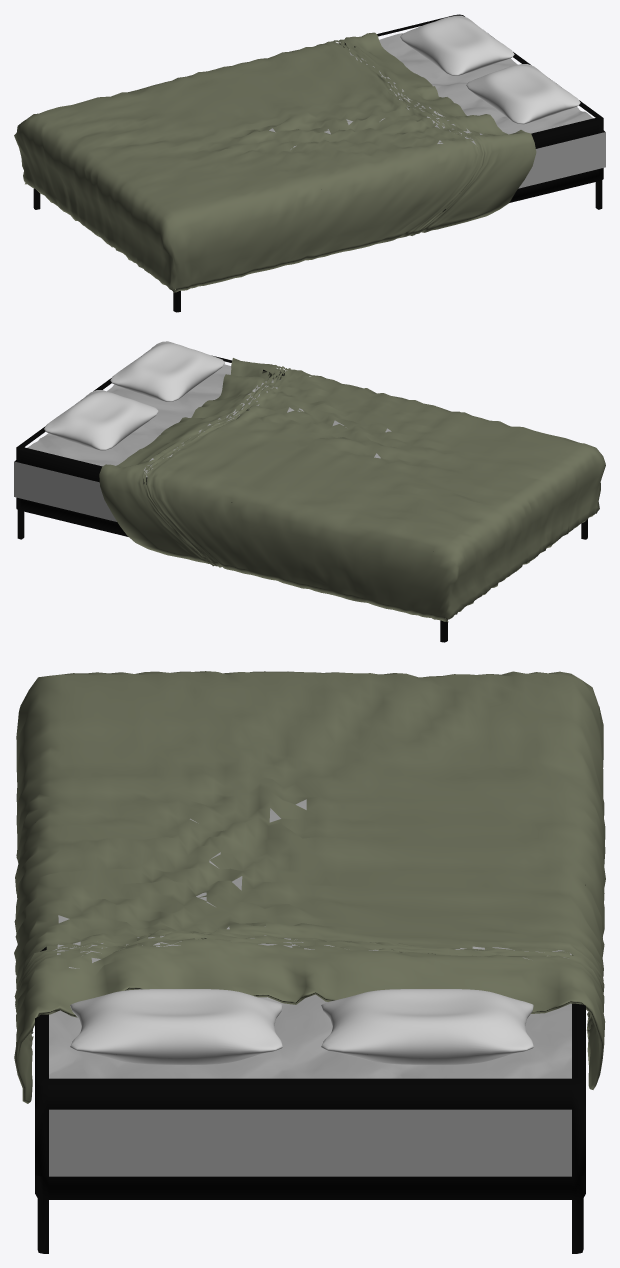
The model's file is single-bed.glb.
3 renders of one model, top to bottom at view 1: azimuth 30°, elevation 25°; view 2: azimuth 150°, elevation 25°; view 3: azimuth 270°, elevation 25°, orthographic. The views are drawn at different scales.
Visible parts, largest first — view 1: Cube001; view 2: Cube001; view 3: Cube001.
Part boxes in pixels (x1=…): Cube001: x1=14, y1=14, x2=605, y2=312; Cube001: x1=14, y1=341, x2=605, y2=642; Cube001: x1=14, y1=671, x2=605, y2=1253.
Bounding box in the file's own units: 1.77 × 0.4258 × 1.07.
